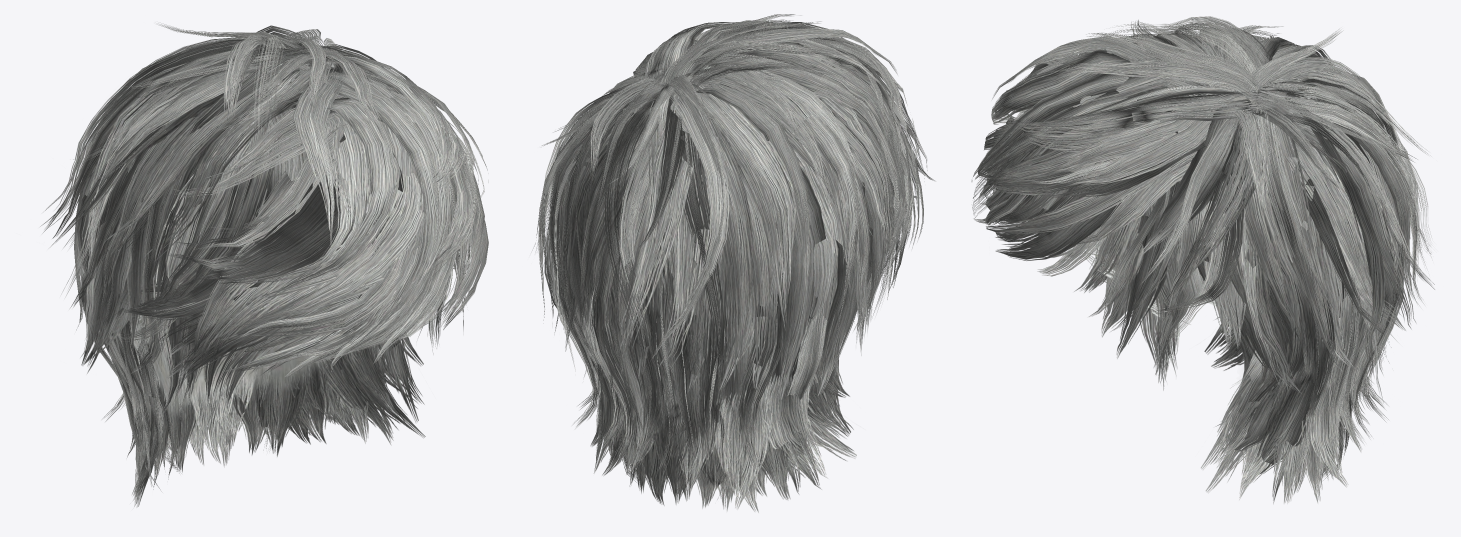
Rendered from hair006.glb.
3 views of the same model, side by side, from view 1: azimuth 30°, elevation 25°; view 2: azimuth 150°, elevation 25°; view 3: azimuth 270°, elevation 25° (orthographic). The views are drawn at different scales.
Parts seen in each view (by area): view 1: hair, scalp; view 2: hair; view 3: hair.
Part boxes in pixels (left/top/right/bottom): hair: left=40, top=23, right=488, bottom=506; scalp: left=138, top=53, right=341, bottom=416; hair: left=532, top=14, right=935, bottom=512; hair: left=971, top=16, right=1434, bottom=503.
Bounding box in the file's own units: 0.176 × 0.2187 × 0.2111.
2 materials, 2 textured.
